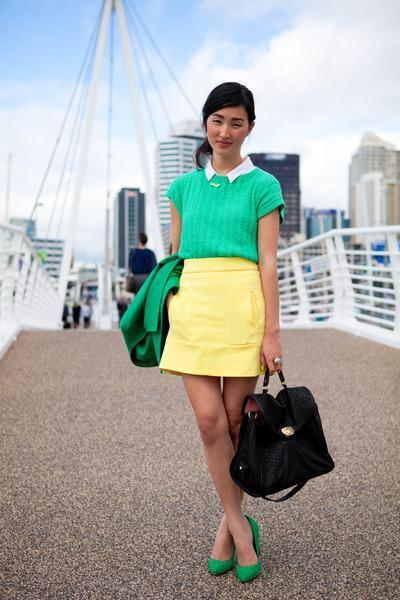bag: (222, 384, 334, 501)
jacket: (118, 255, 186, 366)
shirt: (165, 153, 281, 264)
shoe: (209, 516, 279, 583)
skirt: (159, 258, 264, 381)
